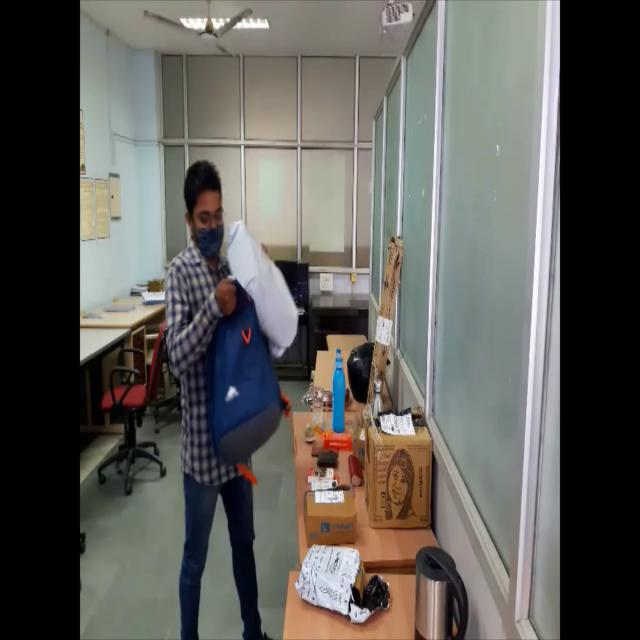shoplifting: (155, 150, 297, 640)
